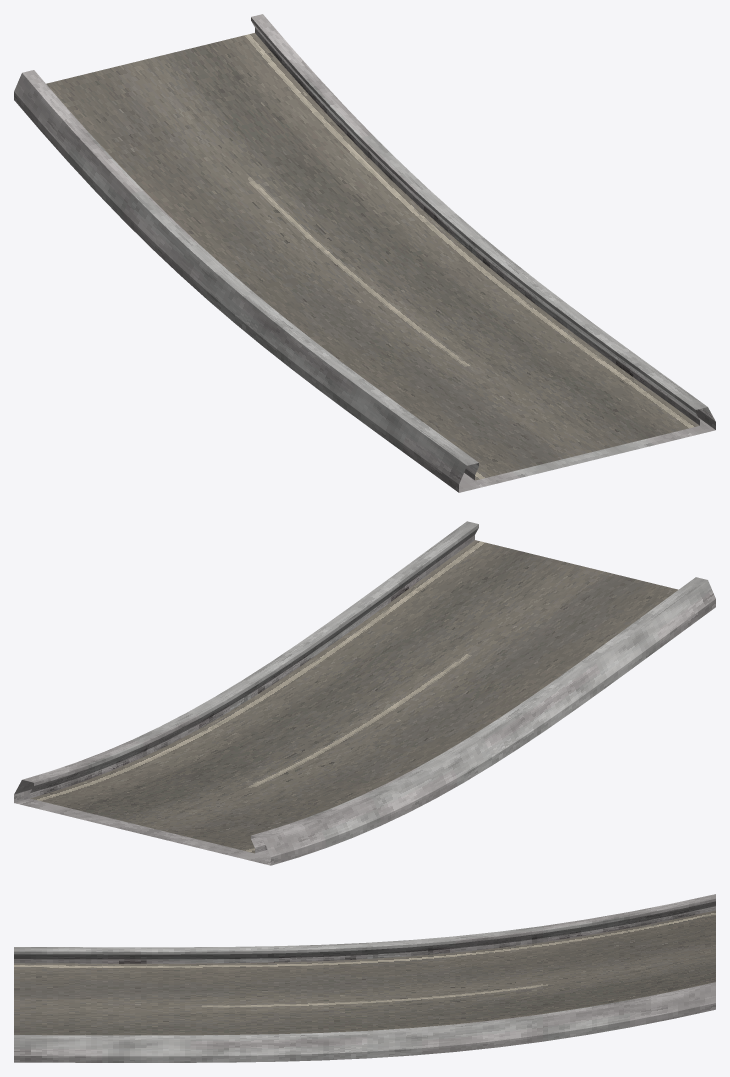
Rendered from straight3.glb.
3 renders of one model, top to bottom at view 1: azimuth 30°, elevation 25°; view 2: azimuth 150°, elevation 25°; view 3: azimuth 270°, elevation 25°, orthographic. The views are drawn at different scales.
Parts seen in each view (by area): view 1: road-Straight-Flat-BiSlopeUp-Up1-Center-Size3; view 2: road-Straight-Flat-BiSlopeUp-Up1-Center-Size3; view 3: road-Straight-Flat-BiSlopeUp-Up1-Center-Size3.
Part boxes in pixels (<box>): road-Straight-Flat-BiSlopeUp-Up1-Center-Size3: <box>14,14,715,492</box>; road-Straight-Flat-BiSlopeUp-Up1-Center-Size3: <box>14,521,715,865</box>; road-Straight-Flat-BiSlopeUp-Up1-Center-Size3: <box>14,894,715,1062</box>.
Size of the model in its own units: 1 by 0.3448 by 3.
Materials: 2 (2 with a texture image).
